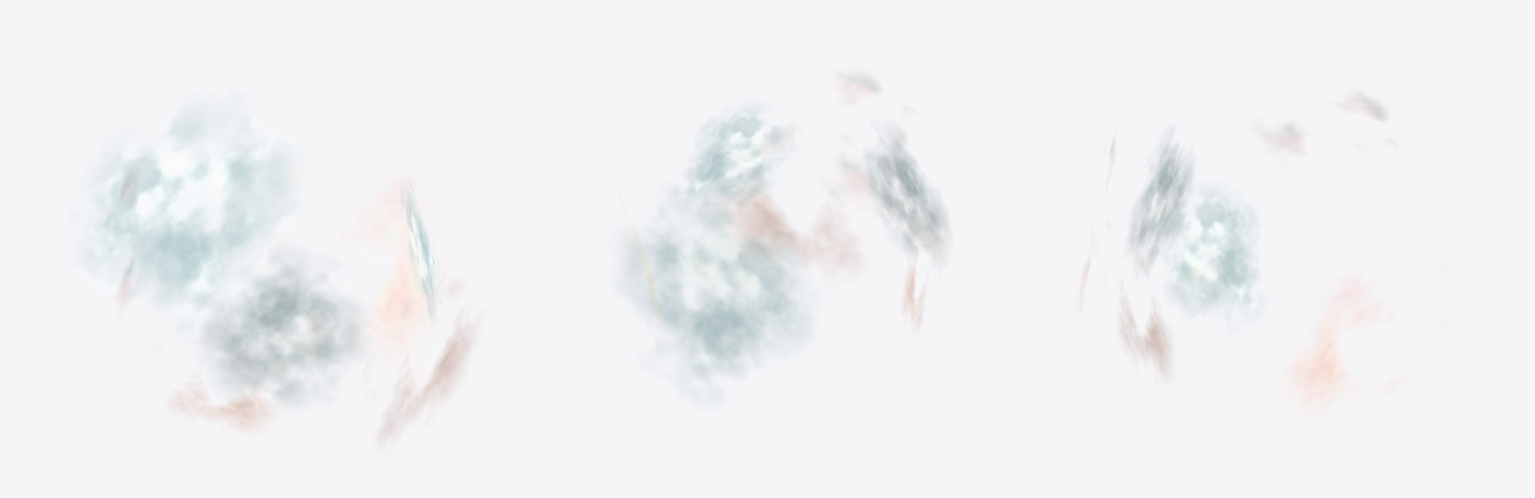
File: nebula_veils.glb
3 renders of one model, left to right at view 1: azimuth 30°, elevation 25°; view 2: azimuth 150°, elevation 25°; view 3: azimuth 270°, elevation 25°, orthographic. The views are drawn at different scales.
Parts seen in each view (by area): view 1: Veil5, Veil0, Veil7, Veil1, Veil3, Veil2, Veil4, Veil6; view 2: Veil5, Veil4, Veil1, Veil0, Veil2, Veil6, Veil7, Veil3; view 3: Veil4, Veil7, Veil0, Veil1, Veil3, Veil6.
Boxes of the visible parts, box(x1,y1,x2,y2) form: Veil5: box(80, 115, 287, 324); Veil0: box(205, 256, 356, 402); Veil7: box(355, 182, 437, 352); Veil1: box(380, 284, 473, 437); Veil3: box(171, 382, 273, 431); Veil2: box(366, 231, 442, 395); Veil4: box(404, 179, 436, 316); Veil6: box(118, 171, 137, 303); Veil5: box(625, 205, 810, 392); Veil4: box(679, 110, 782, 206); Veil1: box(727, 142, 858, 266); Veil0: box(867, 133, 947, 256); Veil2: box(839, 73, 880, 193); Veil6: box(836, 189, 945, 258); Veil7: box(619, 194, 661, 349); Veil3: box(903, 257, 925, 326); Veil4: box(1169, 193, 1259, 318); Veil7: box(1287, 280, 1396, 407); Veil0: box(1131, 135, 1191, 261); Veil1: box(1119, 259, 1171, 378); Veil3: box(1171, 216, 1251, 294); Veil6: box(1265, 93, 1386, 151).
Size of the model in its own units: 95.44 by 94.55 by 100.
Materials: 8 (8 with a texture image).
